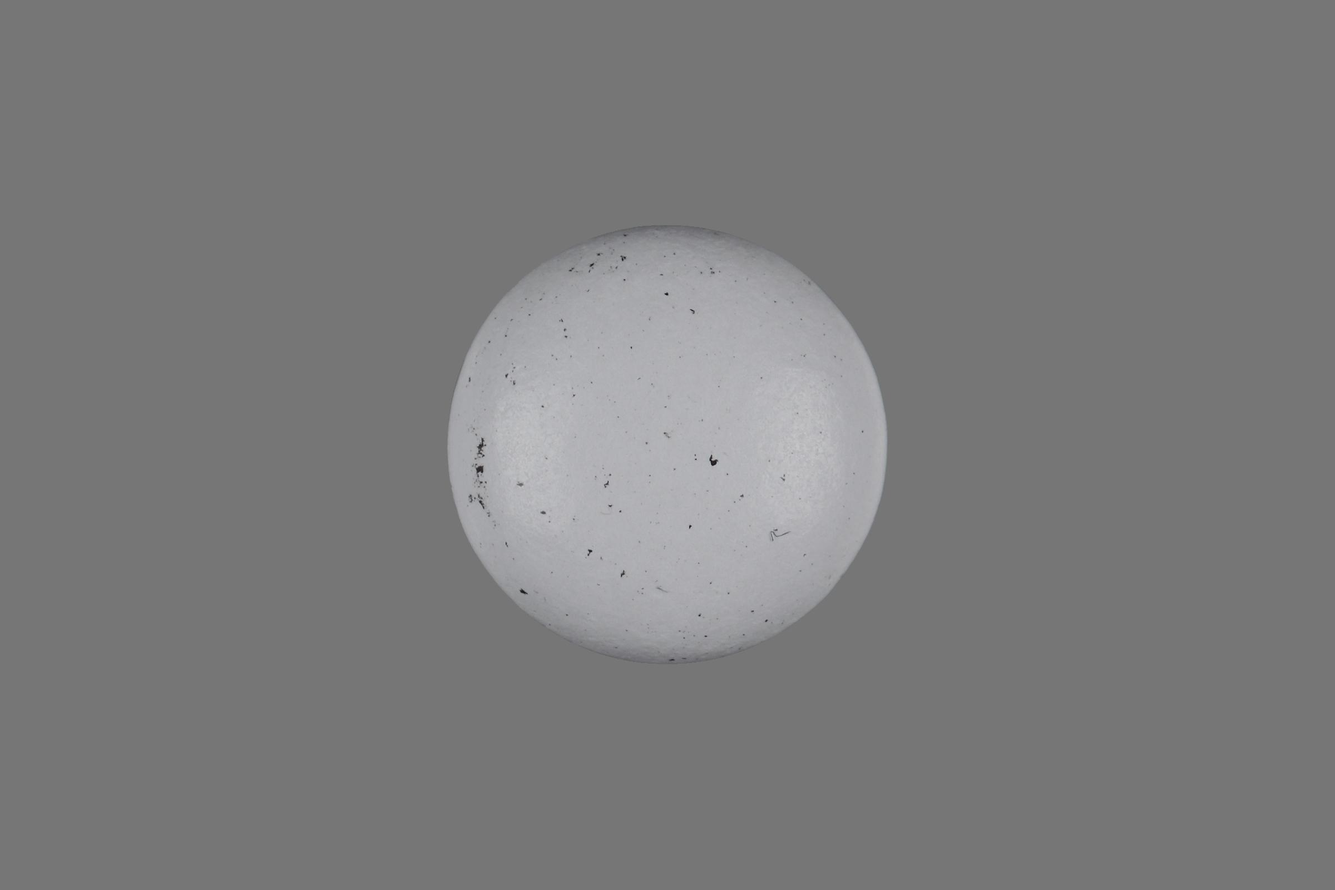Pill: (438, 213, 899, 673)
